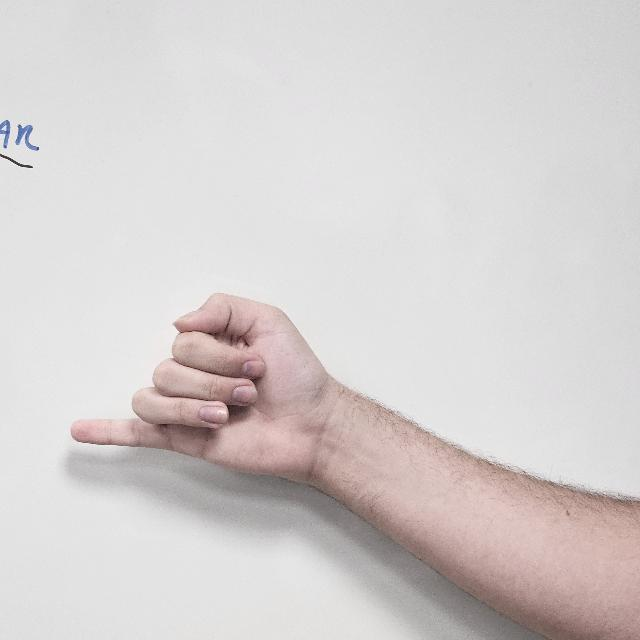Esquerda: (71, 254, 423, 542)
